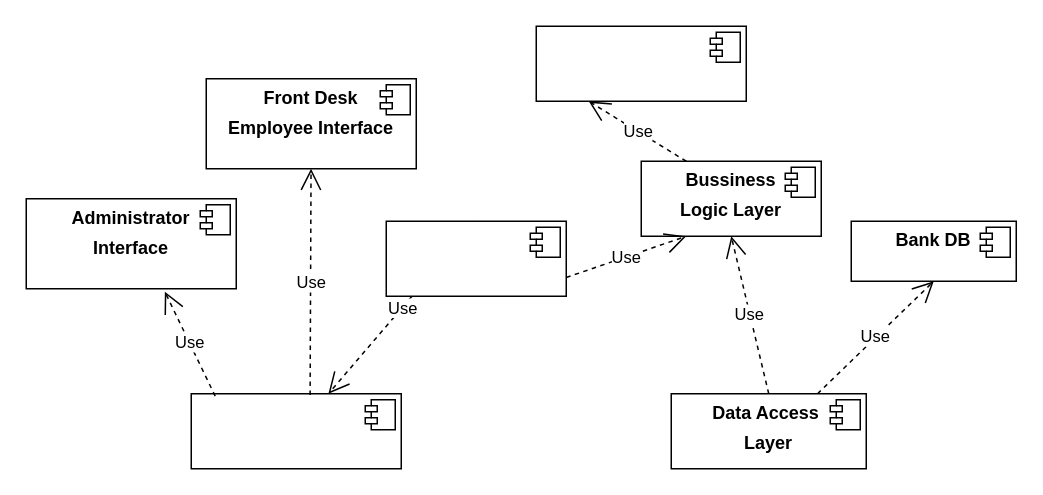
This 1043x495 diagram has some shape labels left out. The shapes that lost their labels are listed below. From the top down, each one's centre as x and y in pixels, then its label:
(x=640, y=63): Model Data Layer
(x=475, y=258): Controller
(x=295, y=430): Login
